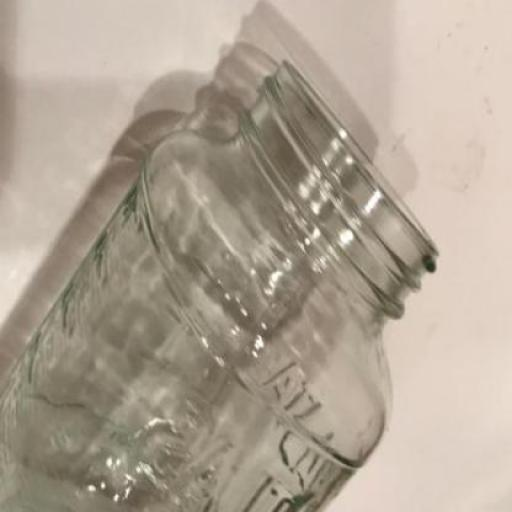glass: (1, 60, 442, 511)
